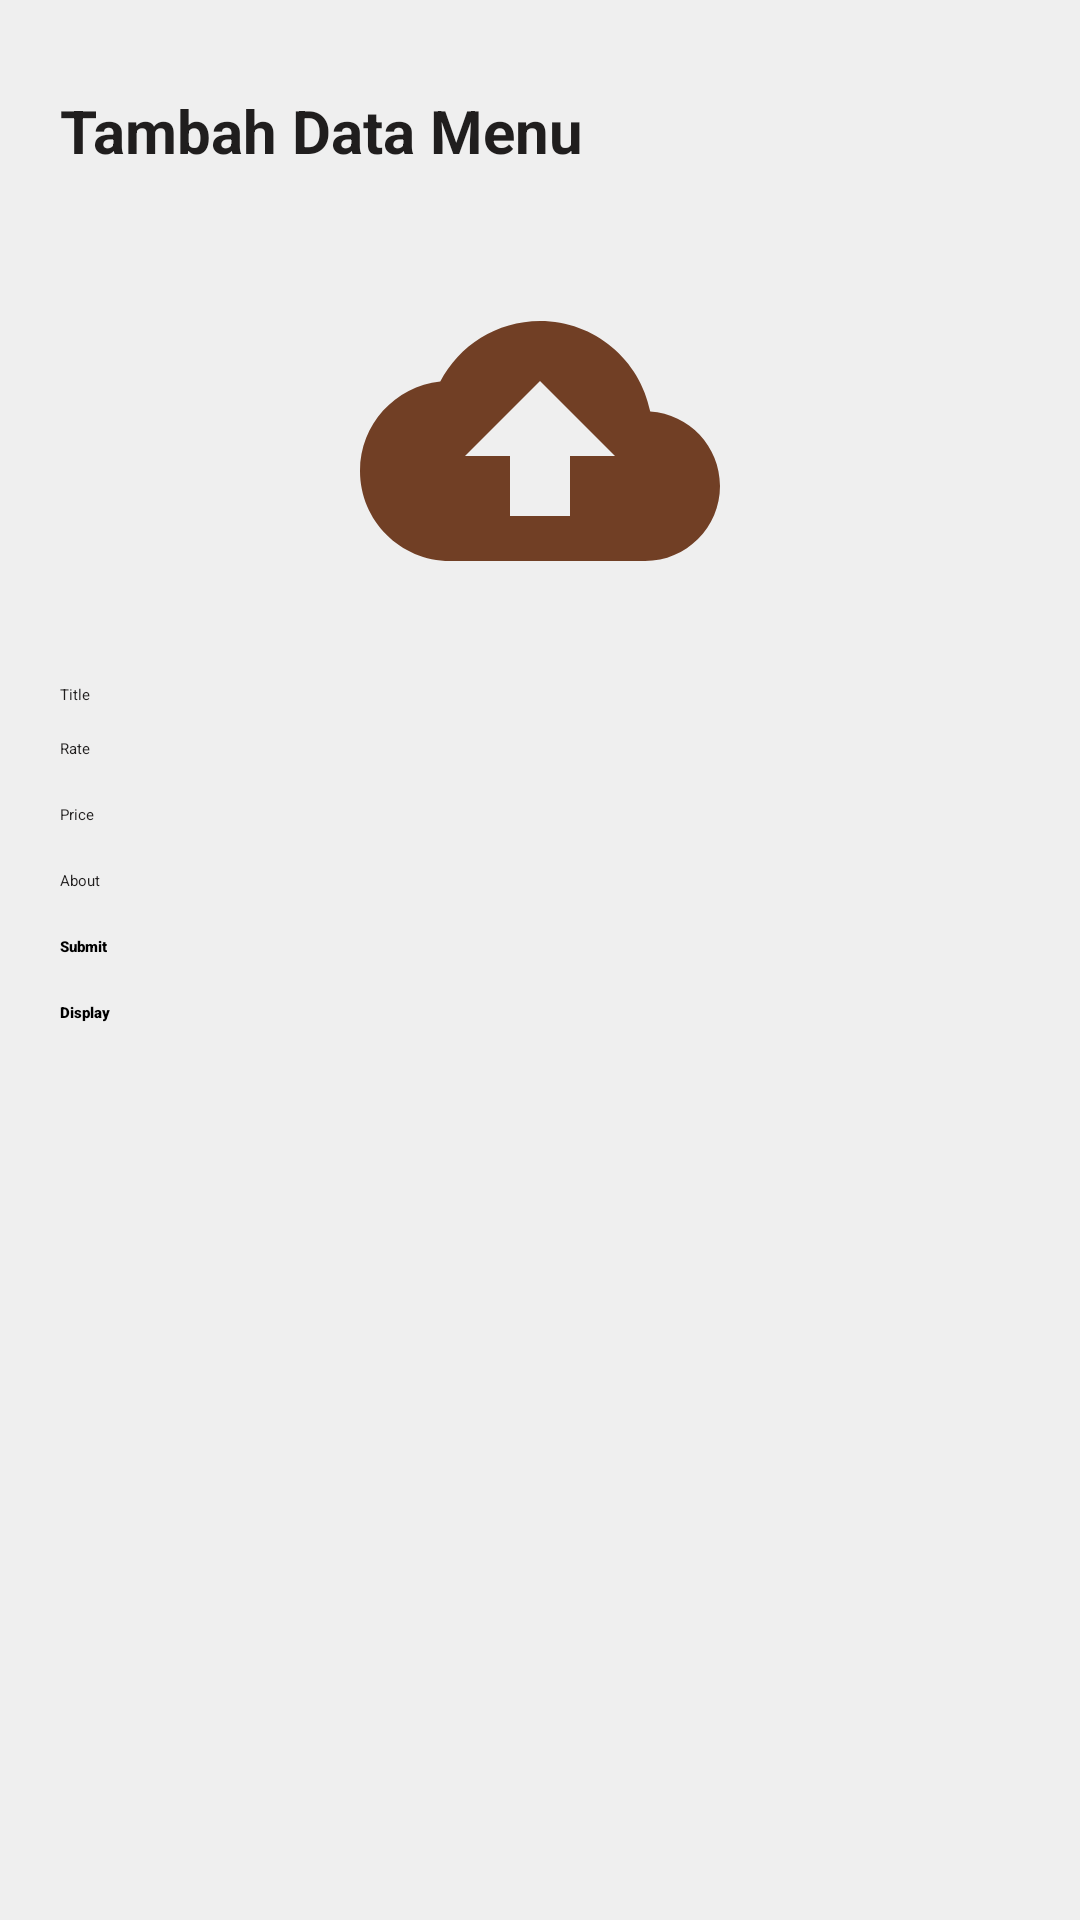

Screen size 1080 x 1920. Icon name, then its box in pixels as bbox(x1, y1, x2, y2):
cloud upload: bbox(360, 321, 720, 561)
